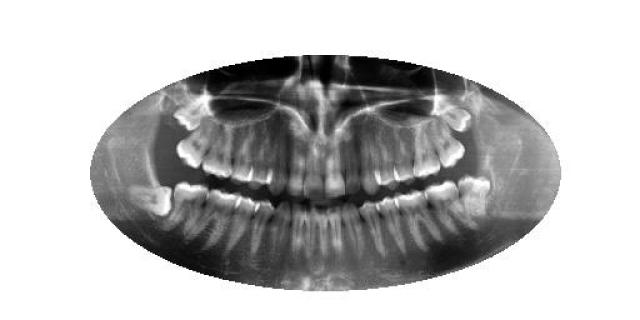Restorations: (125, 184, 175, 218)
